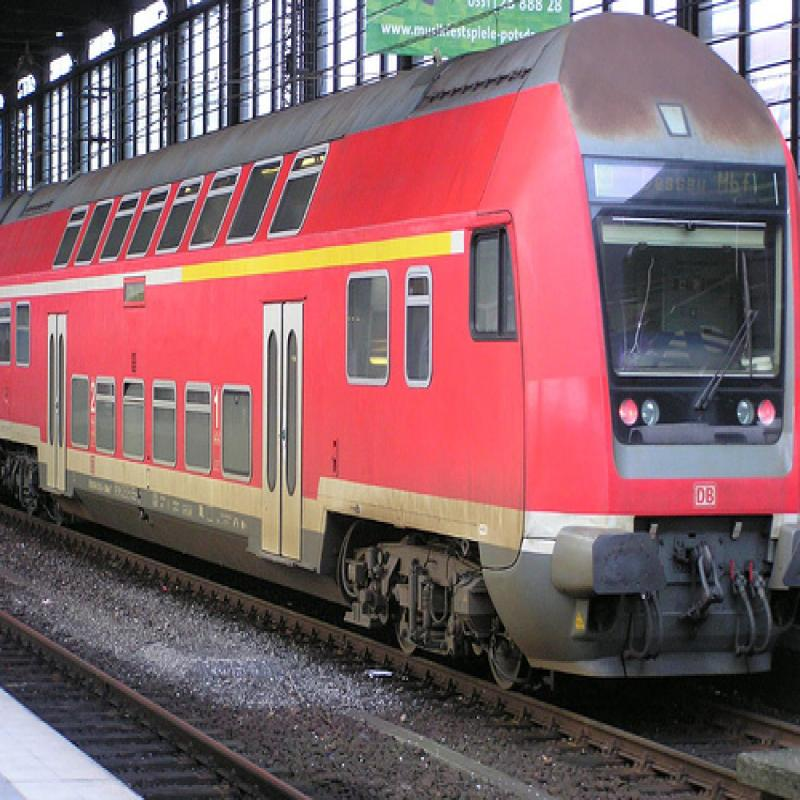train: (2, 16, 800, 694)
